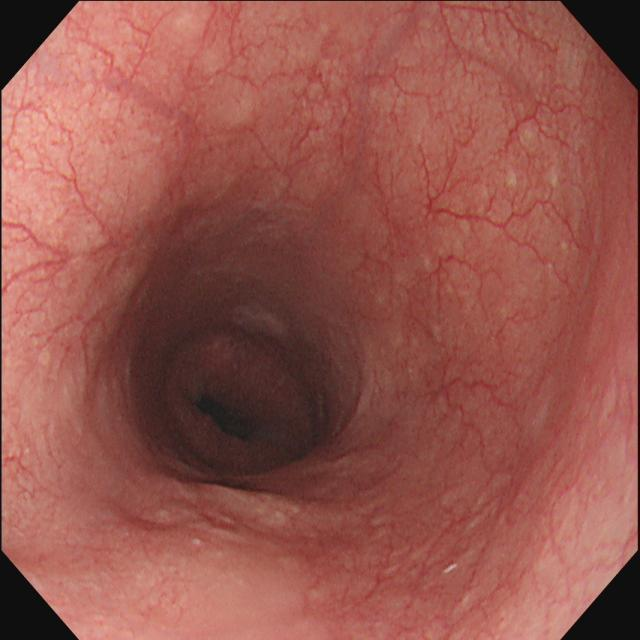E: (147, 284, 327, 475)
